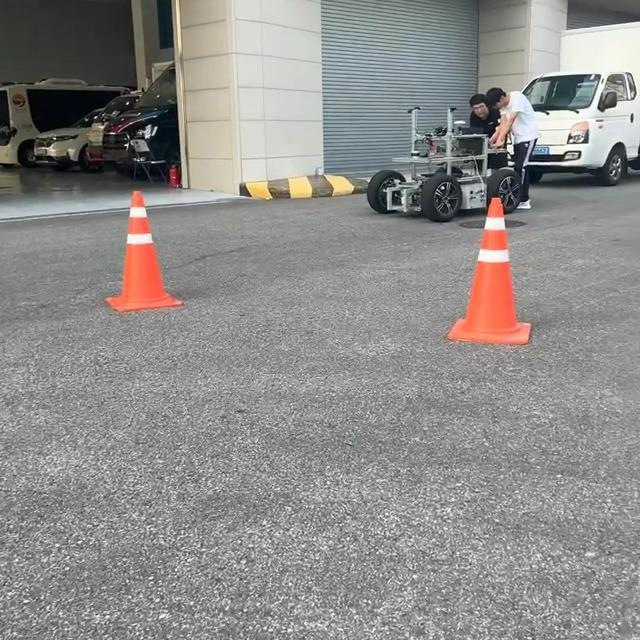fallen_object: (442, 187, 582, 378), (83, 189, 232, 344)
